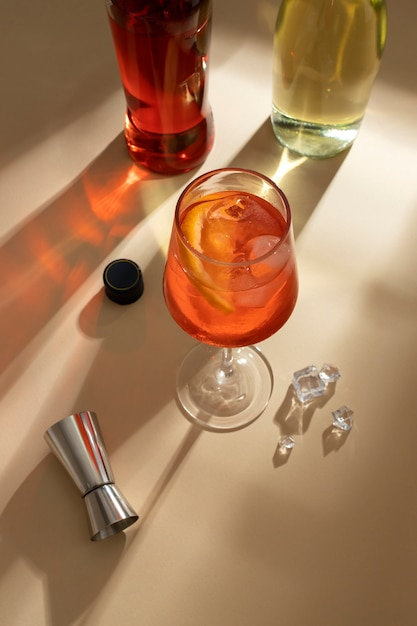alcohol: (163, 166, 303, 434), (267, 0, 389, 159), (108, 1, 214, 175)
